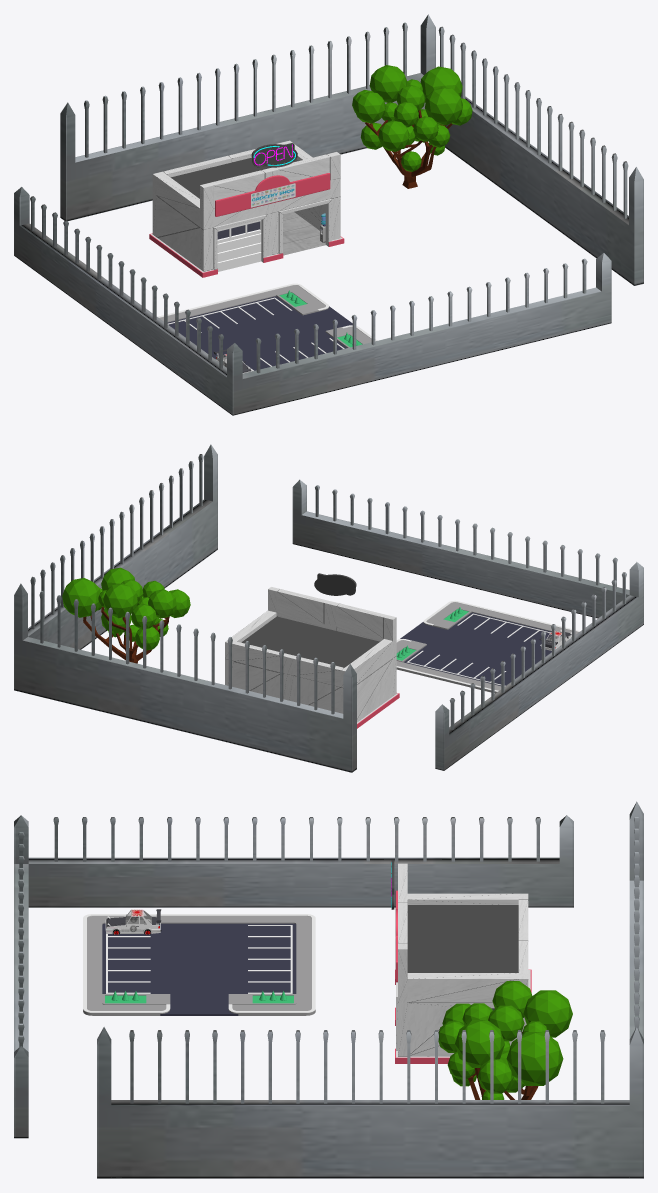
File: shop_texture.glb
3 views of the same model, one above another, from view 1: azimuth 30°, elevation 25°; view 2: azimuth 150°, elevation 25°; view 3: azimuth 270°, elevation 25° (orthographic). The views are drawn at different scales.
Visible parts, largest first — view 1: Fence (×2), Main building, tree crown, Road, Sign, Garage door, Footpath, Roof, Plane, Lines, trunk and branches, background (+2 smaller); view 2: Fence (×2), Main building, Road, tree crown, Roof, Footpath, Lines, trunk and branches, background, Concretes; view 3: Fence (×2), Road, tree crown, Main building, Roof, Footpath, Lines, Concretes, Car frame, Grass.
Part boxes in pixels (x1,y1,x2,y2): Fence (×2): (14,14,643,415); Main building: (151,140,342,272); tree crown: (352,65,472,171); Road: (167,296,352,370); Sign: (215,173,330,216); Garage door: (217,220,261,271); Footpath: (159,285,371,343); Roof: (171,157,298,198); Plane: (283,212,325,255); Lines: (157,283,377,370); trunk and branches: (365,102,452,188); background: (251,143,297,167); Fence (×2): (14,444,643,772); Main building: (225,587,398,723); Road: (400,612,551,685); tree crown: (62,567,190,650); Roof: (241,616,379,667); Footpath: (396,602,578,693); Lines: (396,600,580,691); trunk and branches: (83,606,169,663); background: (314,573,356,595); Concretes: (396,608,471,662); Fence (×2): (14,801,643,1178); Road: (102,923,296,1015); tree crown: (438,981,572,1099); Main building: (396,863,530,1057); Roof: (407,905,518,972); Footpath: (83,916,315,1015); Lines: (83,914,315,1012); Concretes: (102,994,296,1004); Car frame: (106,909,160,933); Grass: (105,995,293,1003).
Bounding box in the file's own units: 5.98 × 1.52 × 5.75.
54 materials, 7 textured.
